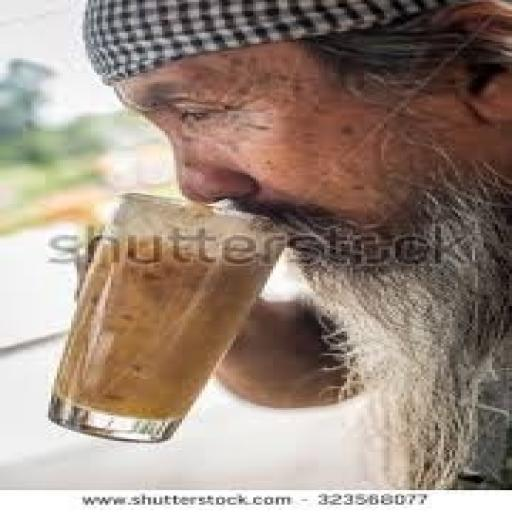drinking: (43, 191, 290, 443)
